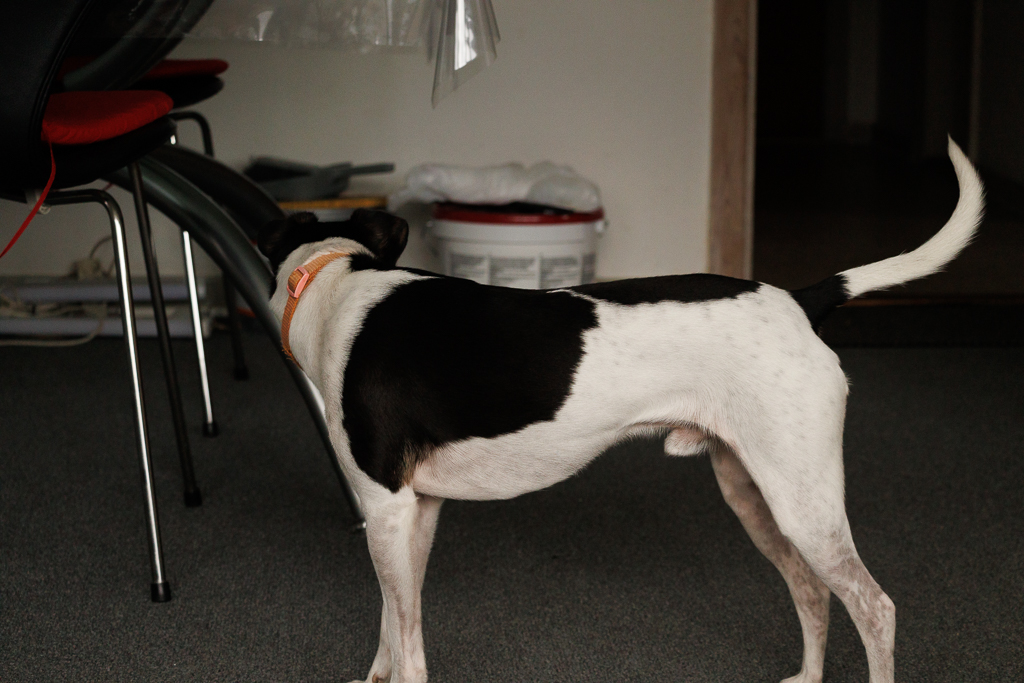Dog: (246, 125, 991, 683)
